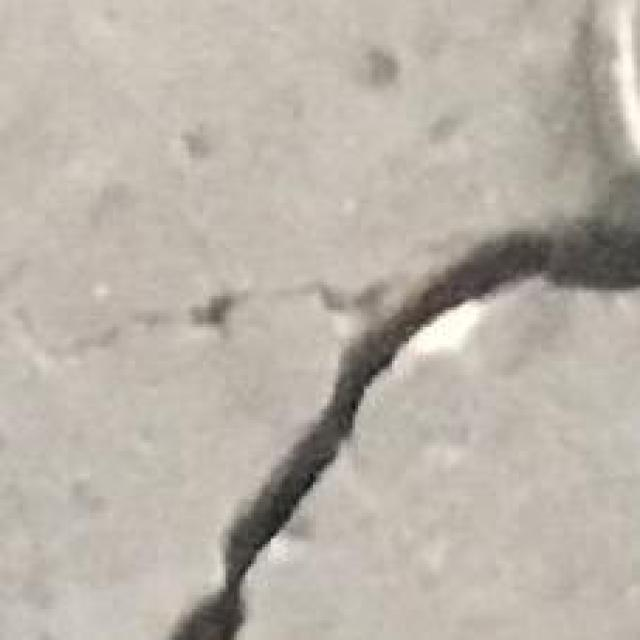diagonal crack: (170, 217, 639, 639)
